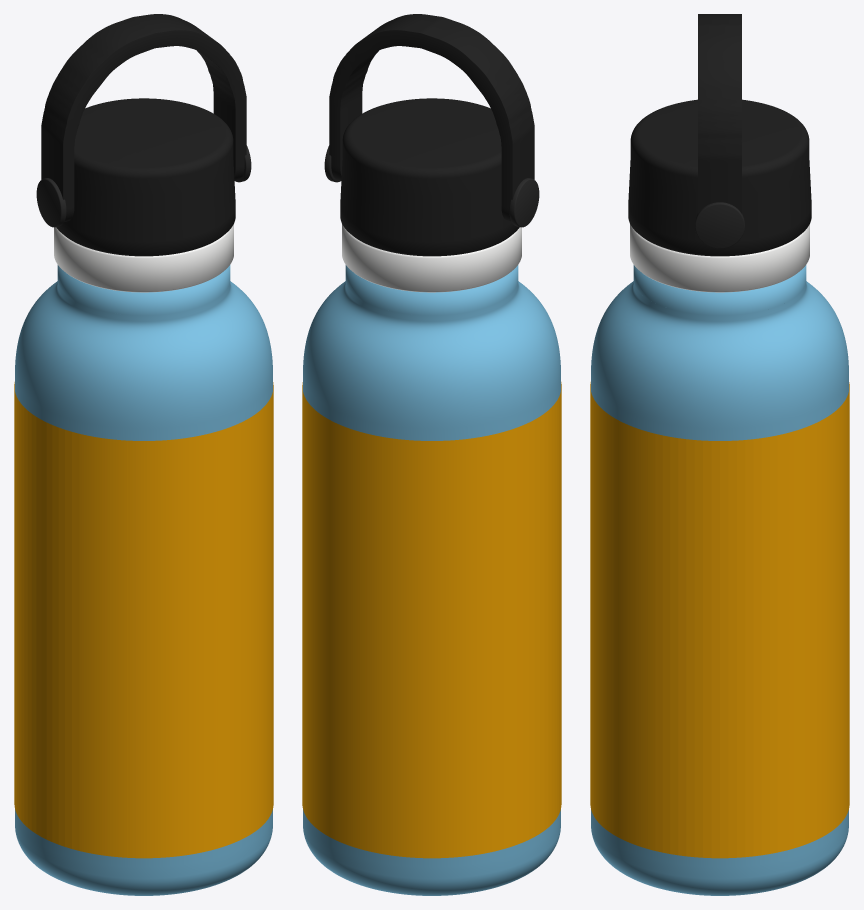
The model's file is SKLUBS_BOTTLE_WEB.glb.
The picture shows the model from 3 angles, left to right: view 1: azimuth 30°, elevation 25°; view 2: azimuth 150°, elevation 25°; view 3: azimuth 270°, elevation 25°; orthographic projection.
Parts seen in each view (by area): view 1: PRINT_FRONT, BODY, PRINT_WRAP_360, CAP, HANDLE, METAL_RING, NECK, HINGE_L; view 2: PRINT_BACK, BODY, PRINT_WRAP_360, CAP, HANDLE, METAL_RING, NECK, HINGE_L; view 3: PRINT_WRAP_360, BODY, PRINT_BACK, PRINT_FRONT, CAP, HANDLE, METAL_RING, NECK, HINGE_R.
Boxes of the visible parts, x1,y1,x2,y2 form: PRINT_FRONT: (79,389,273,858); BODY: (15,281,272,895); PRINT_WRAP_360: (14,382,273,857); CAP: (56,98,235,256); HANDLE: (41,14,246,221); METAL_RING: (54,224,233,292); NECK: (57,265,230,315); HINGE_L: (36,178,66,227); PRINT_BACK: (302,389,496,858); BODY: (303,281,560,895); PRINT_WRAP_360: (302,382,561,853); CAP: (340,98,519,256); HANDLE: (329,14,534,221); METAL_RING: (342,224,521,292); NECK: (345,265,518,315); HINGE_L: (509,178,539,227); PRINT_WRAP_360: (590,382,849,858); BODY: (591,281,848,895); PRINT_BACK: (785,384,849,850); PRINT_FRONT: (590,384,654,850); CAP: (628,99,811,256); HANDLE: (698,14,741,213); METAL_RING: (630,224,809,292); NECK: (633,265,806,315); HINGE_R: (695,202,744,248).
Size of the model in its own units: 0.3942 by 1.39 by 0.3942.
